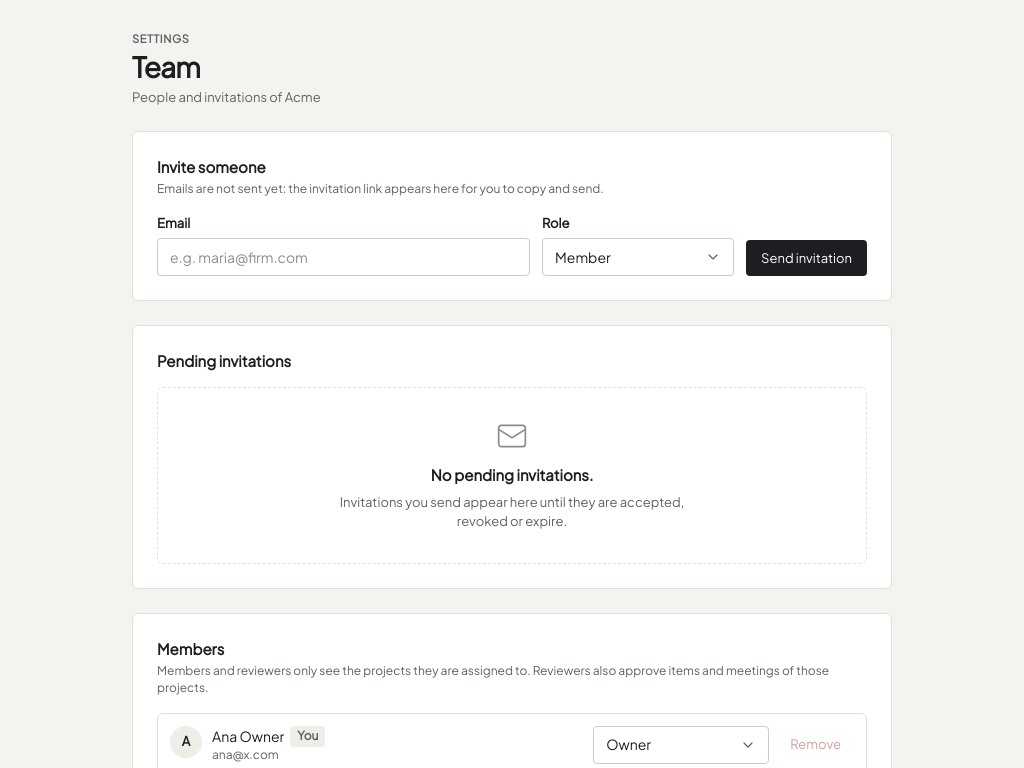
Test: TeamSettings (Story 12.5) › lists members, cannot remove yourself, and creates an invitation showing the link once
The width and height of the screenshot is (1024, 768).
Expected: the button "Remove" is disabled, [777, 729, 854, 761]
Step 1. Type "new@x.com" into the field labelled "Email" → (344, 257), box [157, 238, 530, 276]
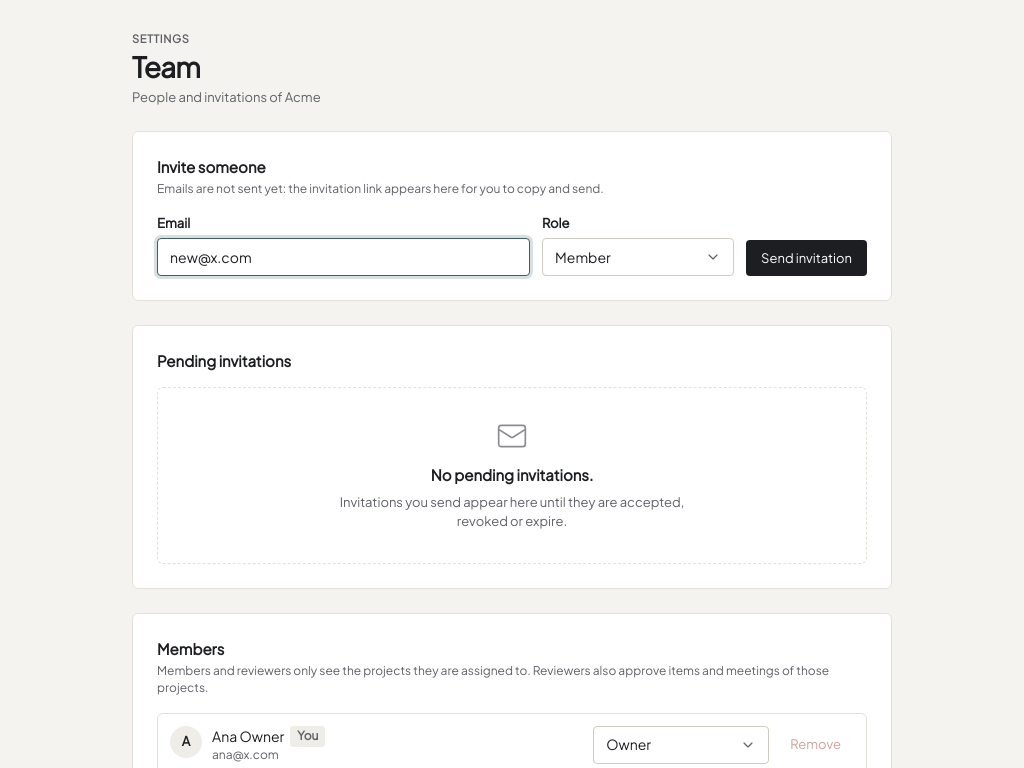
Step 2. Click the button "Send invitation" → click(807, 258), box [746, 240, 867, 276]
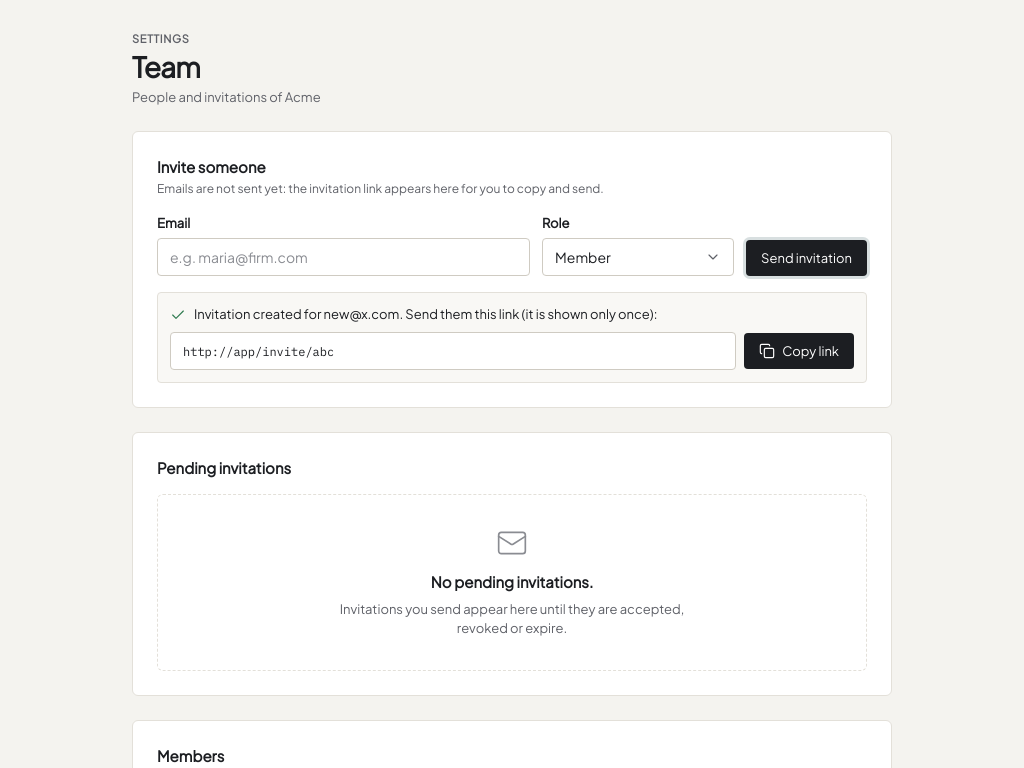
Expected: the field showing "http://app/invite/abc" is shown, [170, 332, 736, 370]
